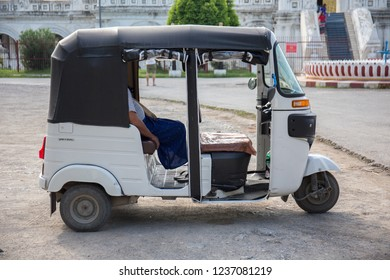threewheel: (38, 24, 341, 233)
